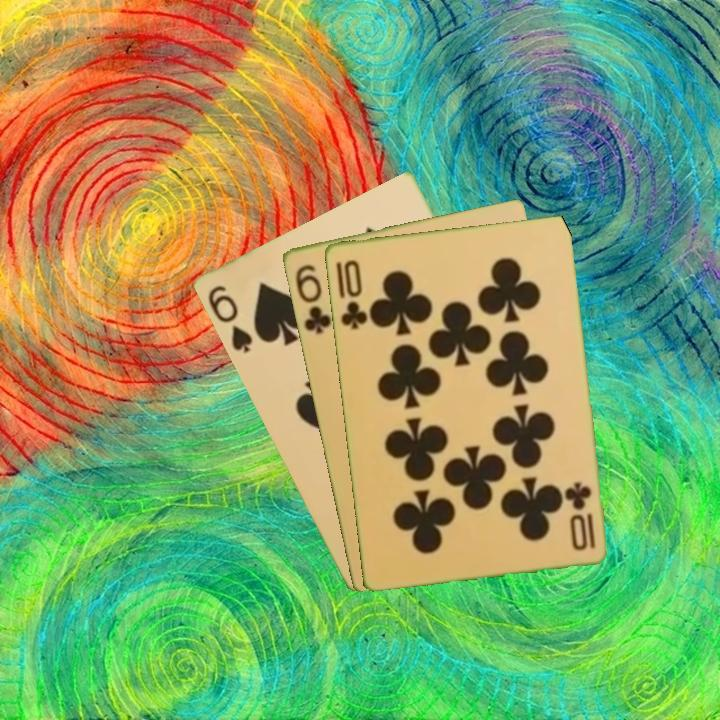10c: (562, 478, 598, 553), (336, 256, 370, 332)
6c: (291, 260, 334, 337)
6s: (203, 281, 255, 356)
